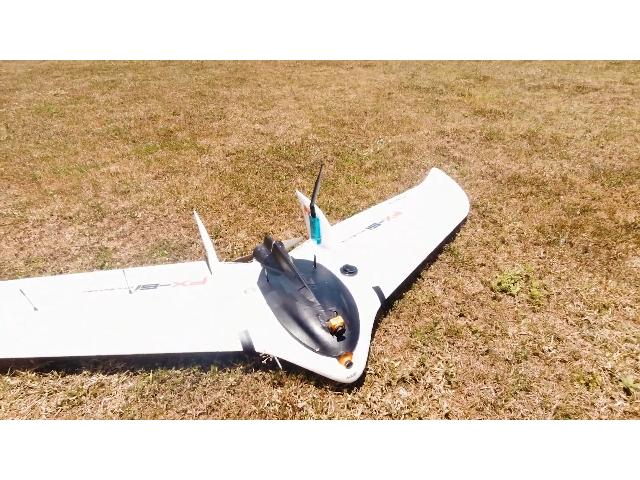Anti-Drone: (0, 122, 504, 402)
